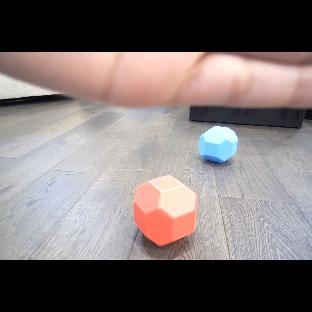V5_BLUE: (197, 127, 239, 164)
V5_RED: (130, 175, 201, 247)
